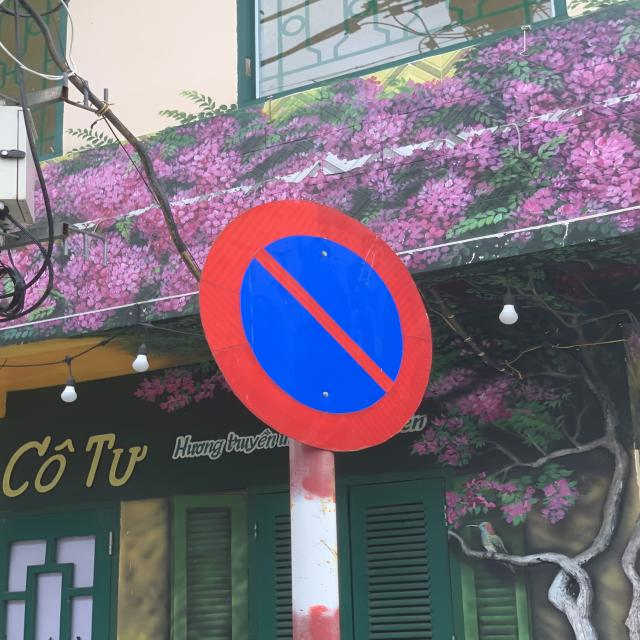Cam_Dau_Xe: (201, 200, 434, 450)
